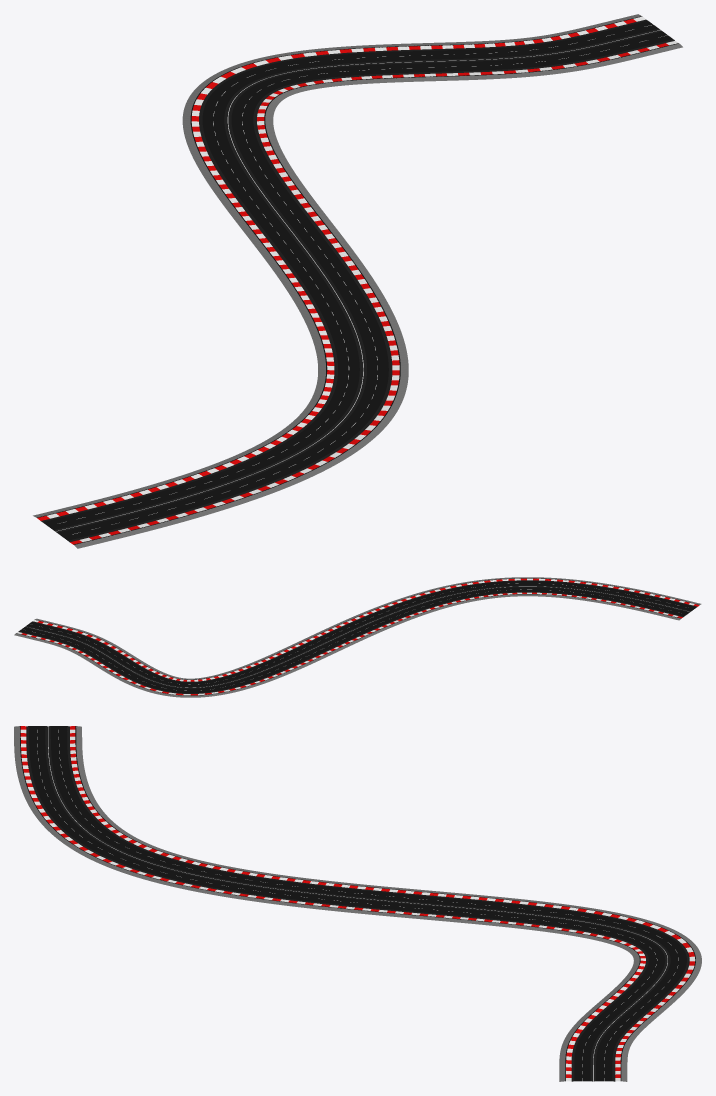
Rendered from S0.3c3h0-ass2.glb.
3 views of the same model, one above another, from view 1: azimuth 30°, elevation 25°; view 2: azimuth 150°, elevation 25°; view 3: azimuth 270°, elevation 25° (orthographic). The views are drawn at different scales.
Parts seen in each view (by area): view 1: Grid; view 2: Grid; view 3: Grid.
Part boxes in pixels (x1,y1,x2,y2): Grid: (33, 14, 682, 548); Grid: (14, 577, 701, 697); Grid: (14, 726, 701, 1081).
Size of the model in its own units: 308 by 0.31 by 252.
